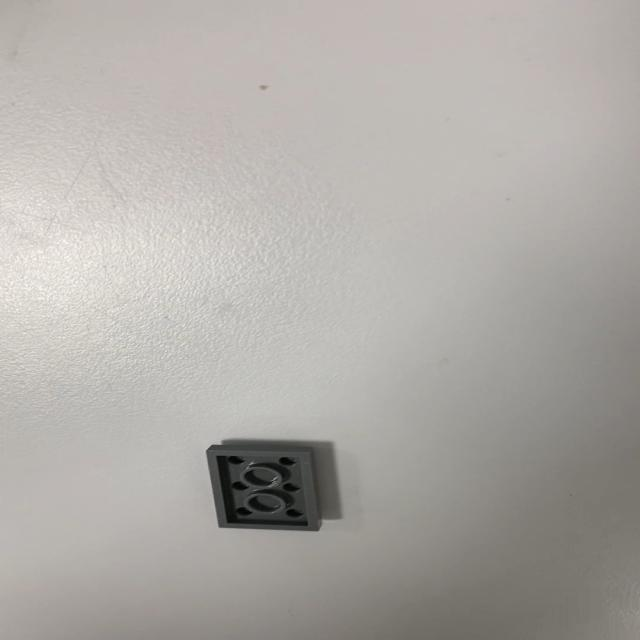C3x2x0: (204, 444, 322, 532)
